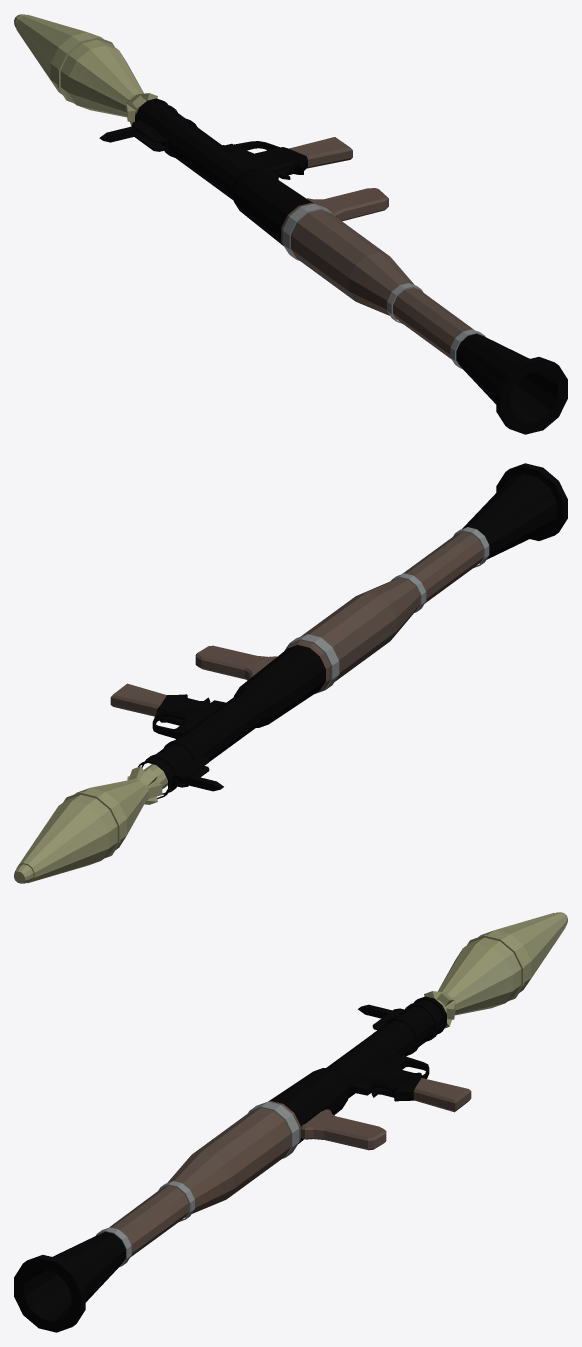
The model's file is roquette.glb.
3 renders of one model, top to bottom at view 1: azimuth 30°, elevation 25°; view 2: azimuth 150°, elevation 25°; view 3: azimuth 330°, elevation 25°, orthographic.
Visible parts, largest first — view 1: Bazooka.001; view 2: Bazooka.001; view 3: Bazooka.001.
Part boxes in pixels (x1,y1,x2,y2): Bazooka.001: [14, 14, 567, 434]; Bazooka.001: [14, 463, 567, 883]; Bazooka.001: [14, 912, 567, 1332].
Size of the model in its own units: 0.6126 by 0.2374 by 3.14.
Materials: 1 (1 with a texture image).
